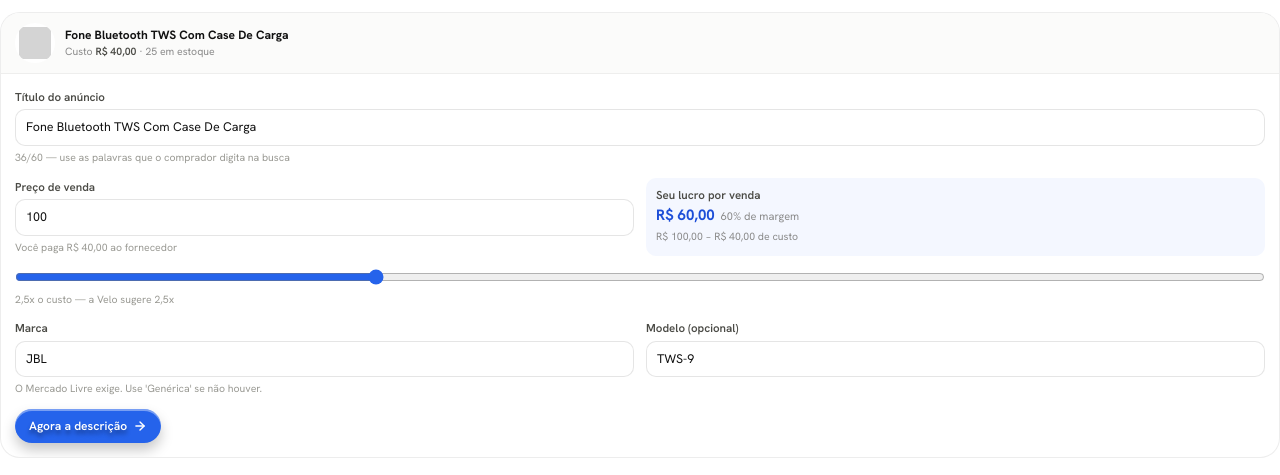
Test: AtlasPublishComposer › oferece gerar a descrição e traz o texto para edição
Expected: the field showing "Fone Bluetooth TWS" is shown, [15,109,1265,146]
Click the button "Agora a descrição" at (88, 426), box [15,409,161,443]
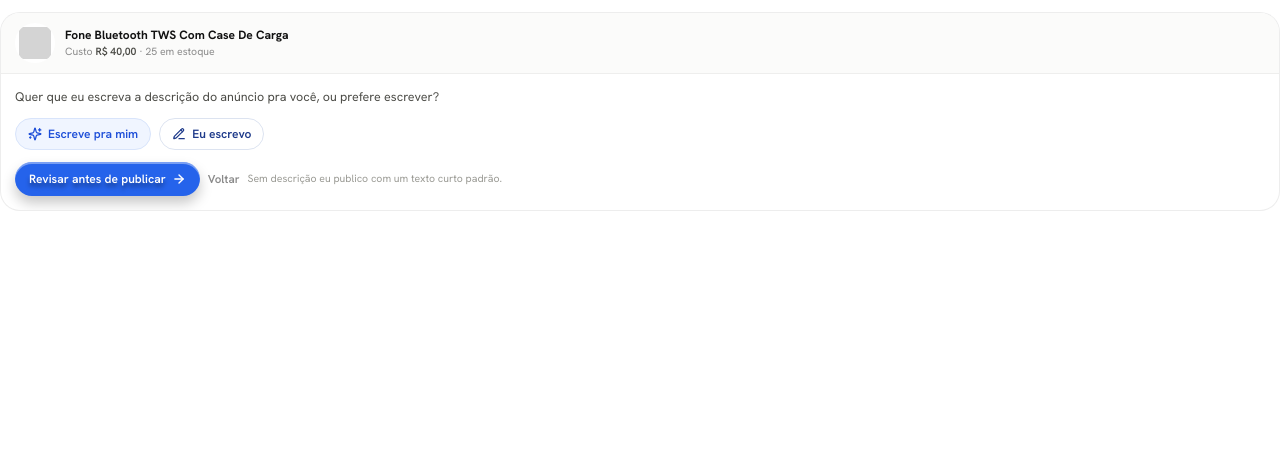
Click the button "Escreve pra mim" at (83, 134), box [15,118,151,150]
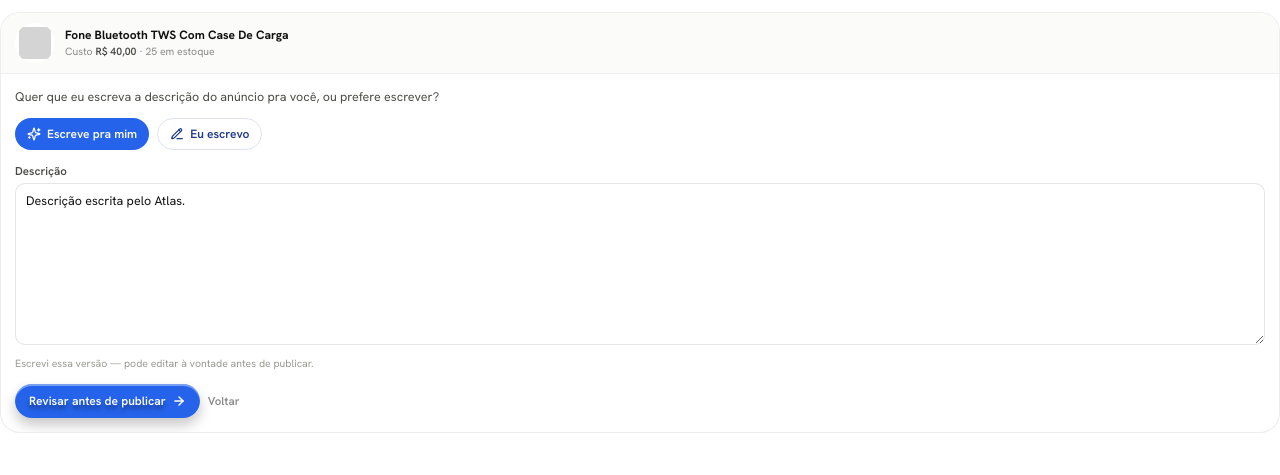
Expected: the text box showing "Descrição escrita pelo Atlas." is shown, [15,183,1265,345]
